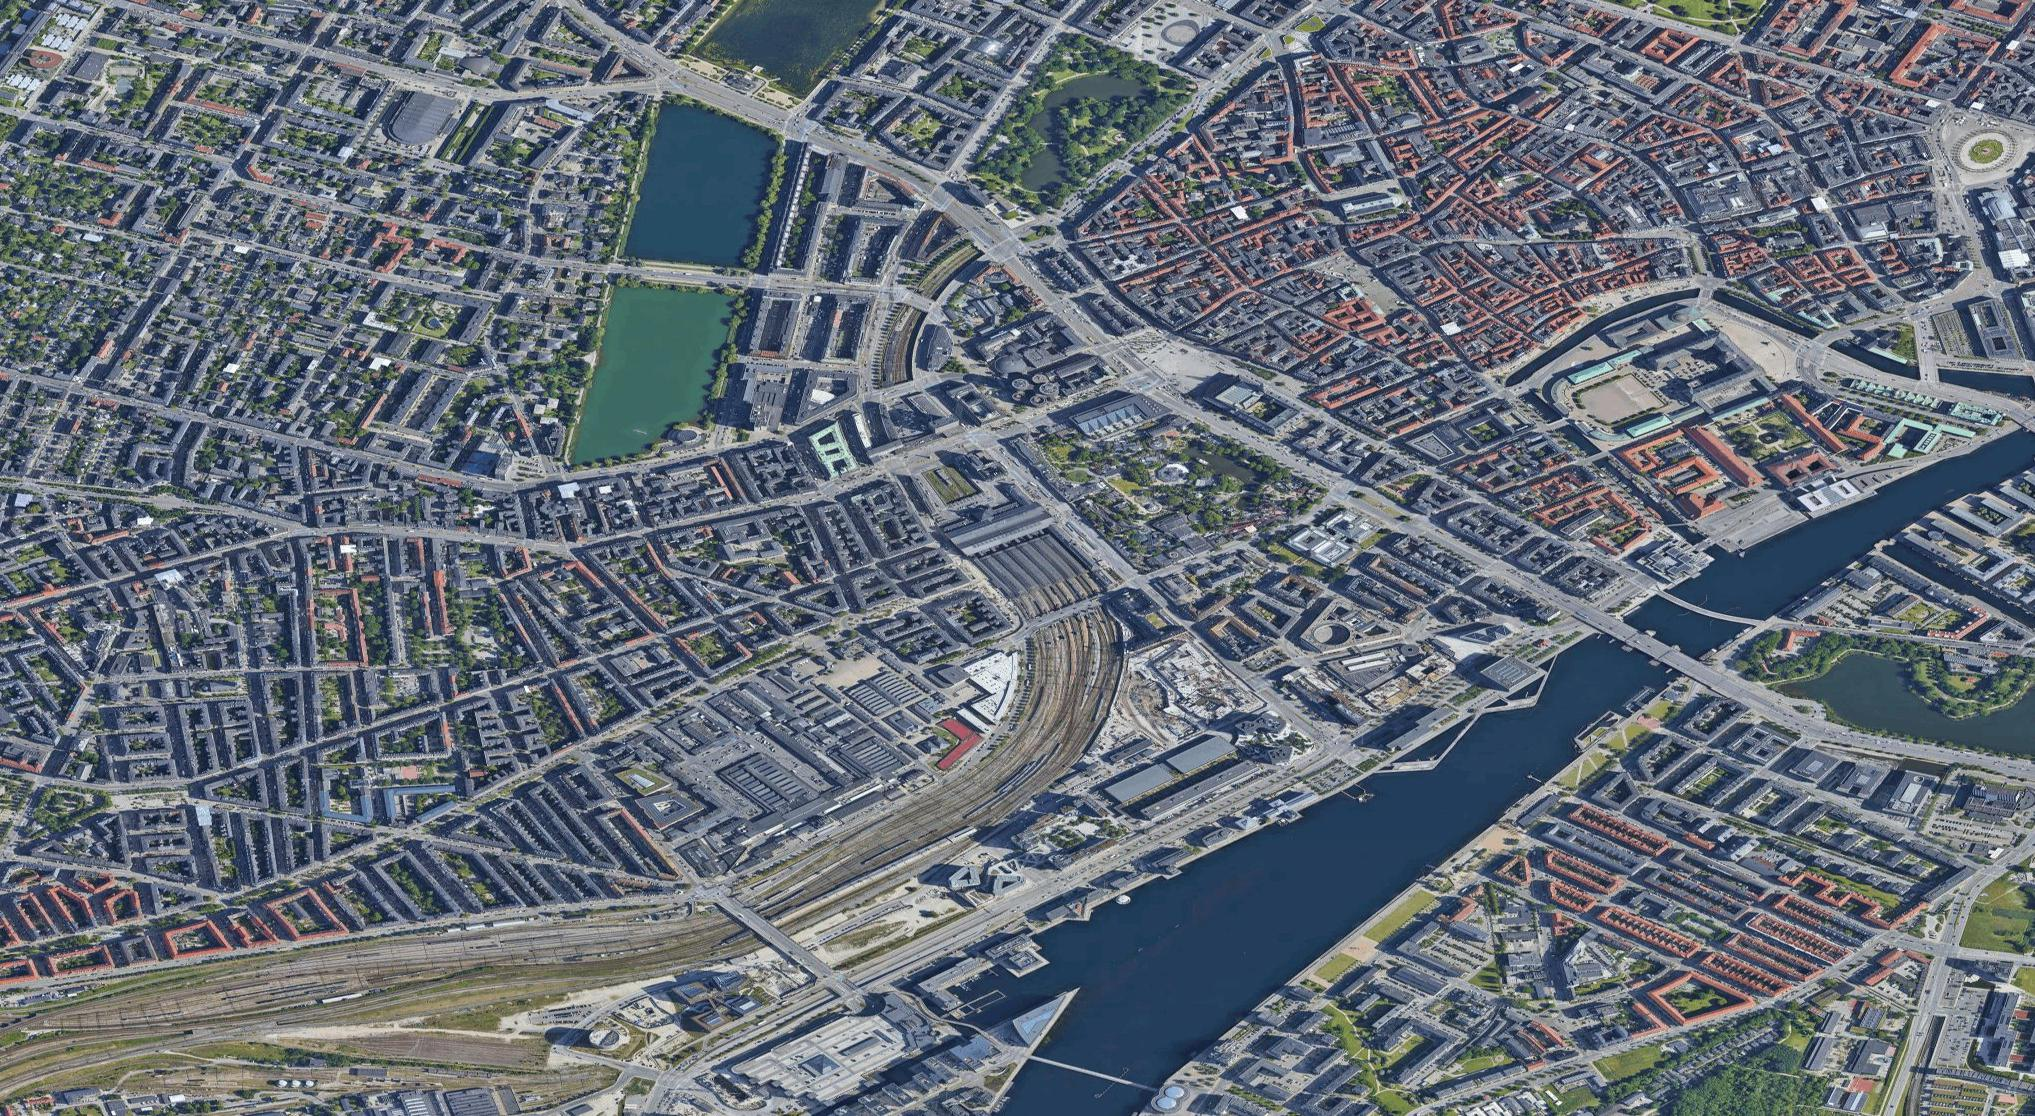bridge: (1593, 612, 1698, 678), (1653, 574, 1759, 640), (699, 889, 805, 952)
train_station: (958, 513, 1102, 629)
